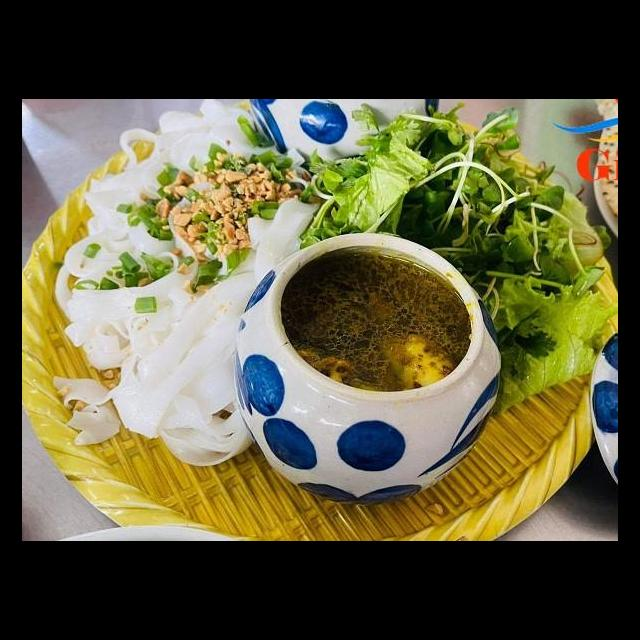mi: (49, 100, 323, 475)
